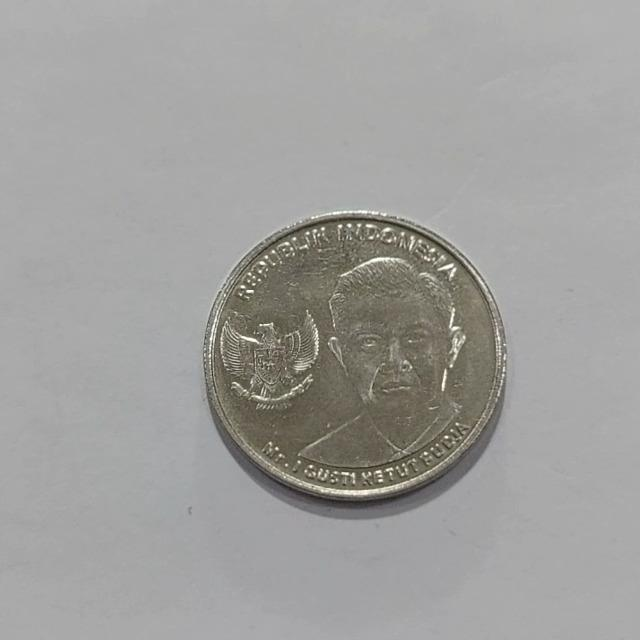Rp100: (202, 208, 508, 503)
